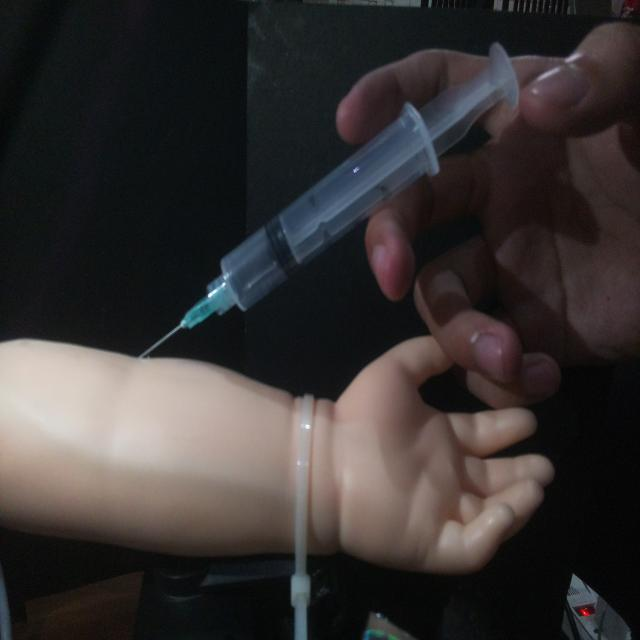29deg: (133, 39, 523, 361)
